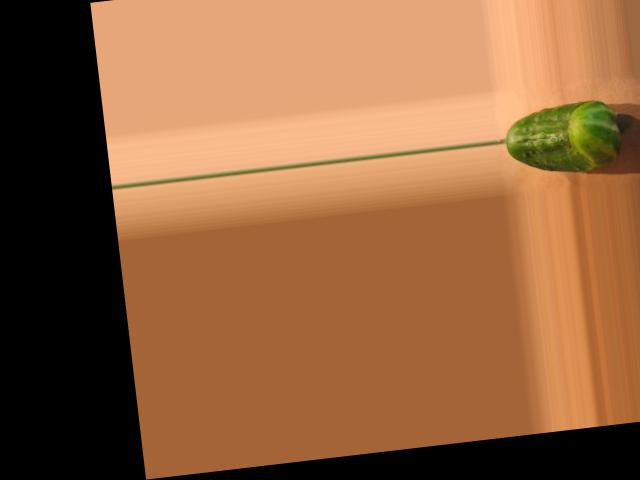cucumber: (502, 96, 623, 179)
